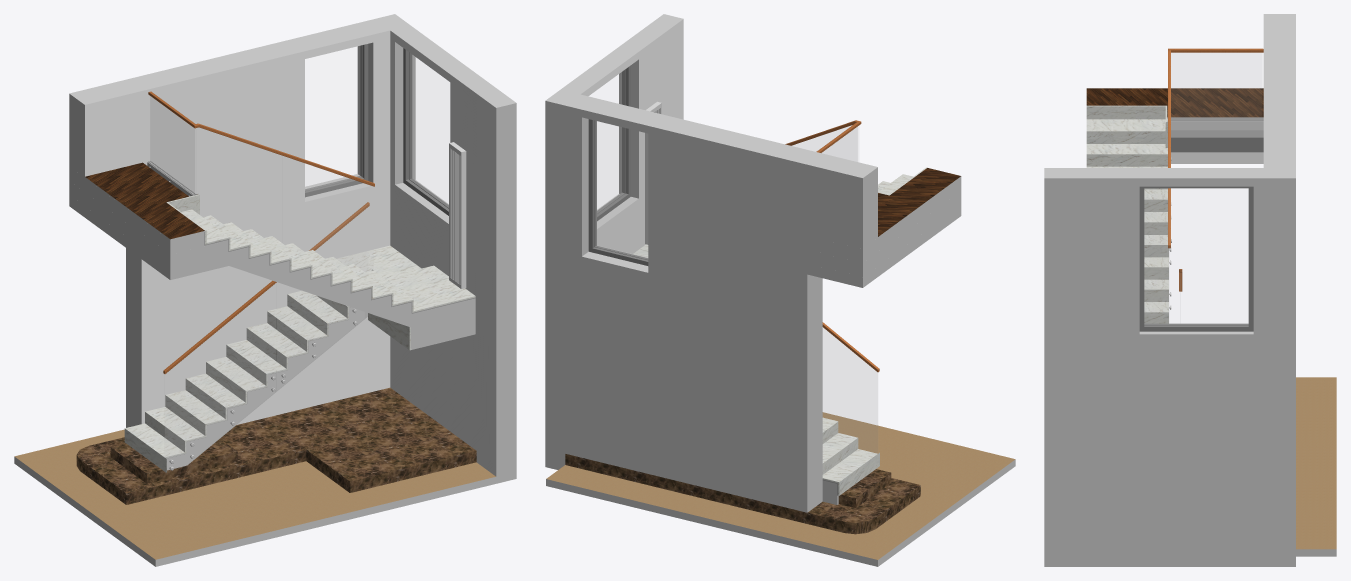
Rendered from 3D Деталь 2.gltf.
3 views of the same model, side by side, from view 1: azimuth 30°, elevation 25°; view 2: azimuth 150°, elevation 25°; view 3: azimuth 270°, elevation 25° (orthographic). The views are drawn at different scales.
Bounding box in the file's own units: 5.29 × 5.26 × 3.59.
135 materials, 5 textured.
